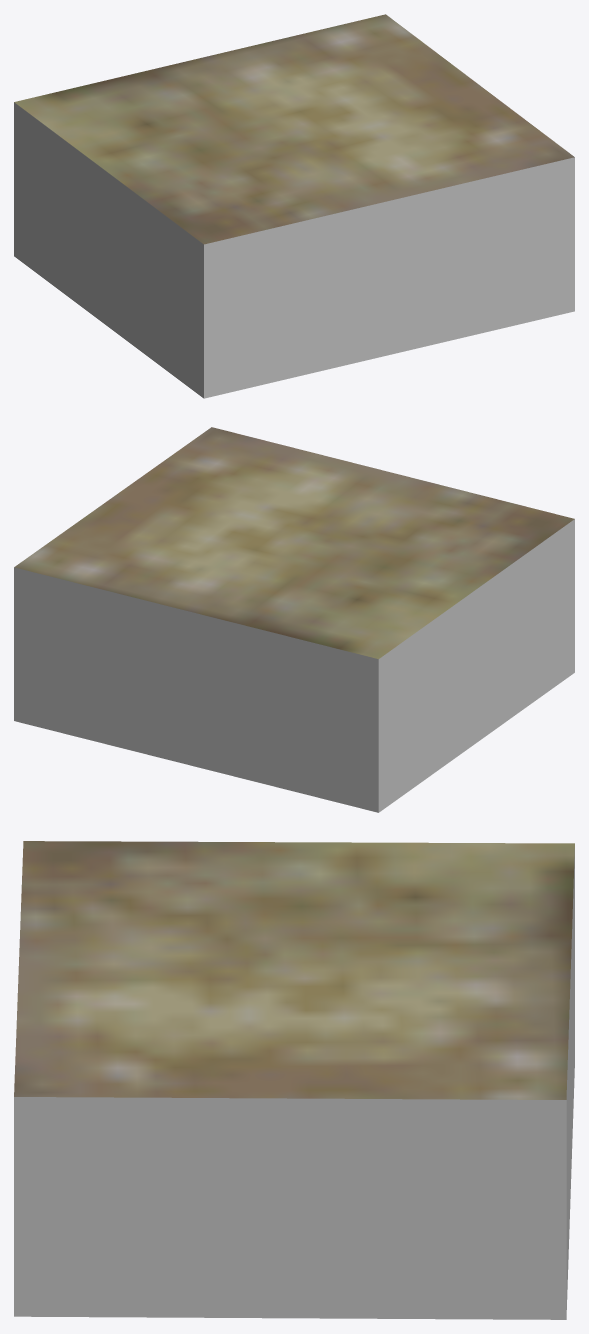
File: DEBW_0010007TxeZ.gltf
3 renders of one model, top to bottom at view 1: azimuth 30°, elevation 25°; view 2: azimuth 150°, elevation 25°; view 3: azimuth 270°, elevation 25°, orthographic. The views are drawn at different scales.
Visible parts, largest first — view 1: Z_UP; view 2: Z_UP; view 3: Z_UP.
Part boxes in pixels (x1,y1,x2,y2): Z_UP: (14, 14, 574, 398); Z_UP: (14, 427, 574, 812); Z_UP: (14, 841, 574, 1319).
Bounding box in the file's own units: 6.49 × 2.57 × 5.94.
2 materials, 1 textured.
